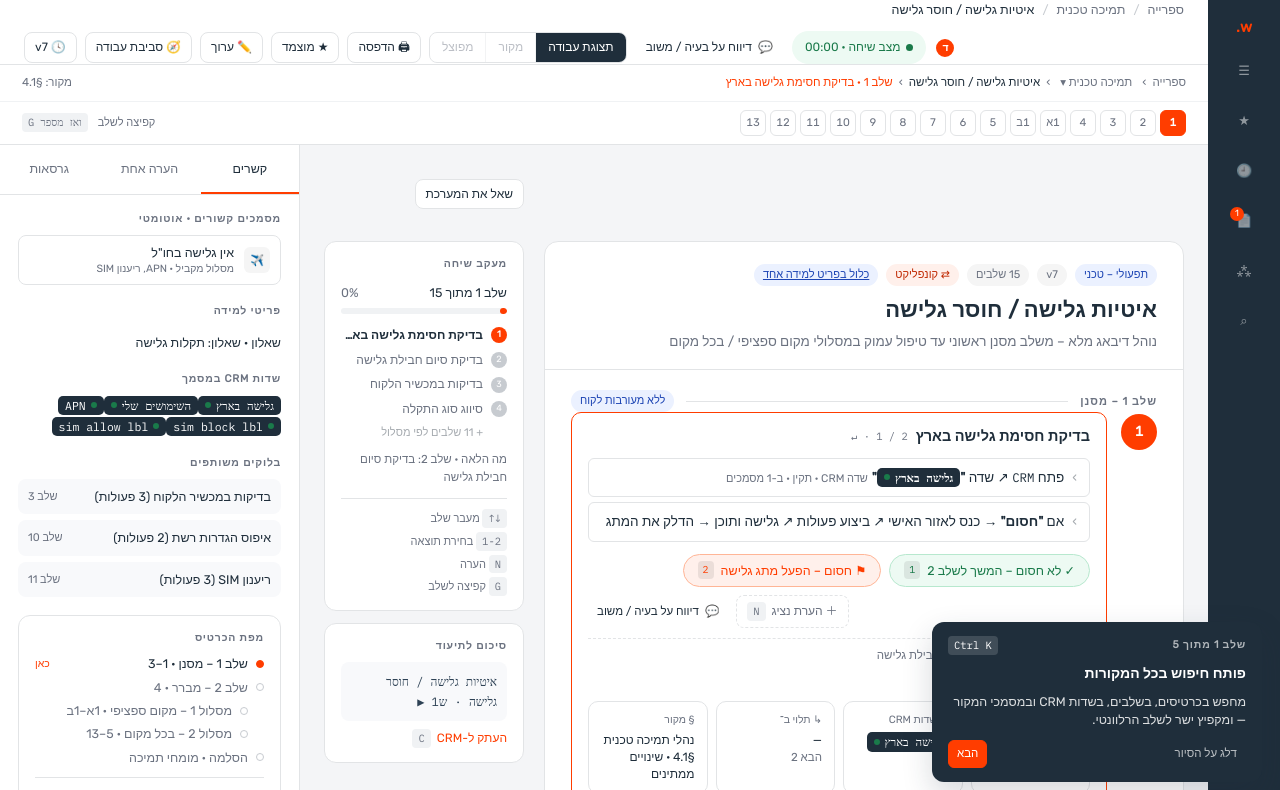
Test case: A-4 · the doc type reads the same everywhere › names the item in the dialog header, and prints no bare storage code anywhere
Click the 1st button "💬 דיווח על בעיה / משוב": x=709, y=48 [635,32,784,63]
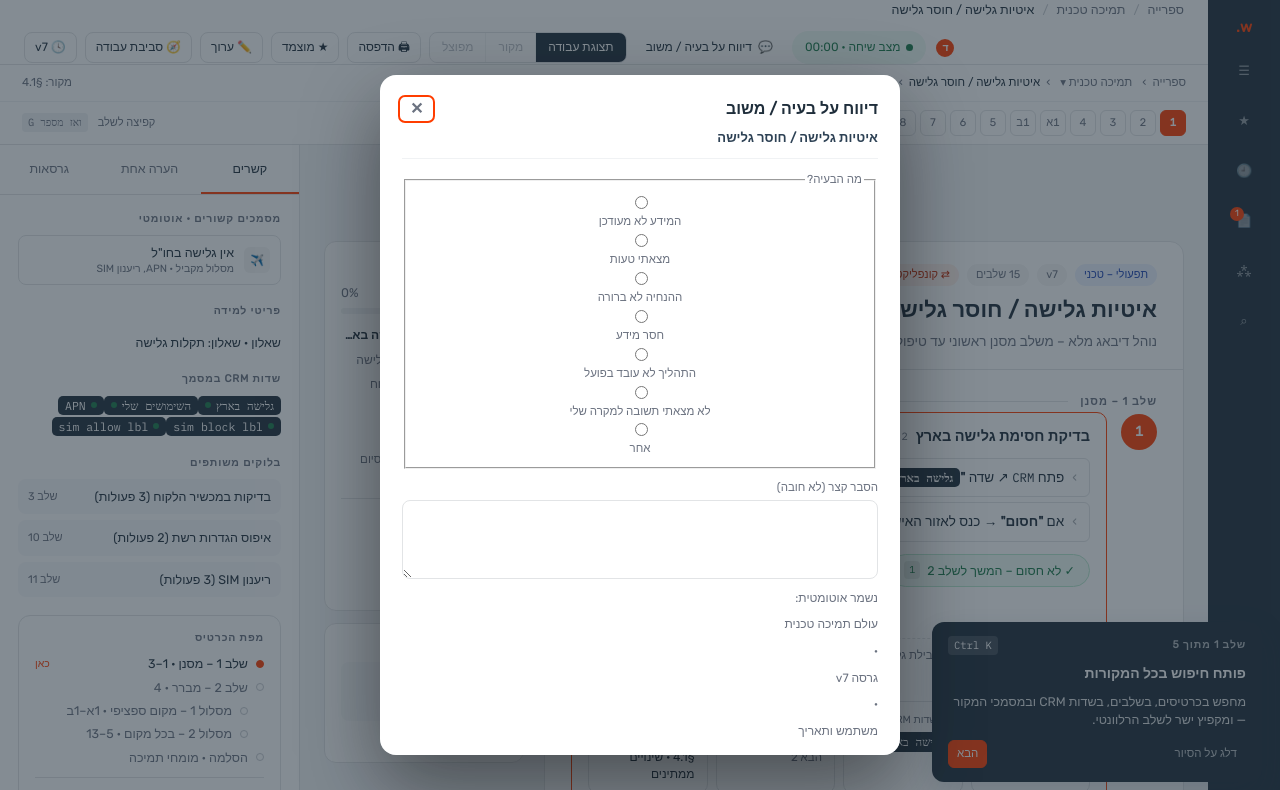
Check: the text "איטיות גלישה / חוסר גלישה" is shown, box [717,128,878,148]
